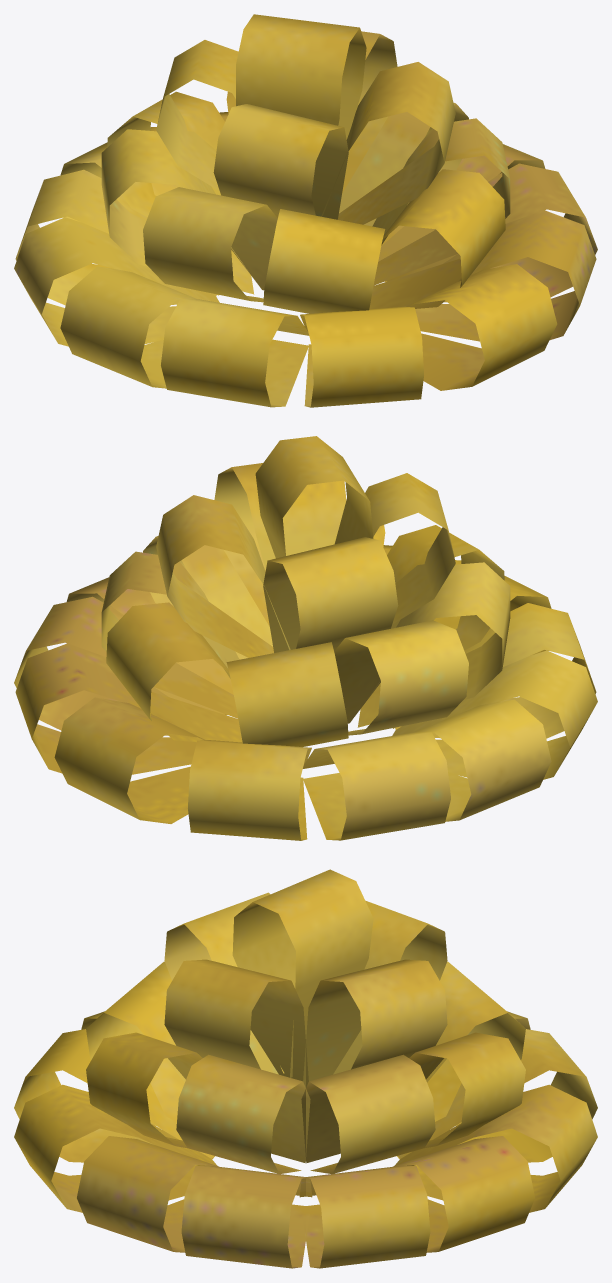
3 renders of one model, top to bottom at view 1: azimuth 30°, elevation 25°; view 2: azimuth 150°, elevation 25°; view 3: azimuth 270°, elevation 25°, orthographic.
Visible parts, largest first — view 1: smMAT0110027; view 2: smMAT0110027; view 3: smMAT0110027.
Boxes of the visible parts, left/top/right/bottom form: smMAT0110027: left=14, top=14, right=597, bottom=407; smMAT0110027: left=14, top=436, right=597, bottom=840; smMAT0110027: left=14, top=869, right=597, bottom=1268.
Bounding box in the file's own units: 31.93 × 16.77 × 32.23.
1 material, 1 textured.
